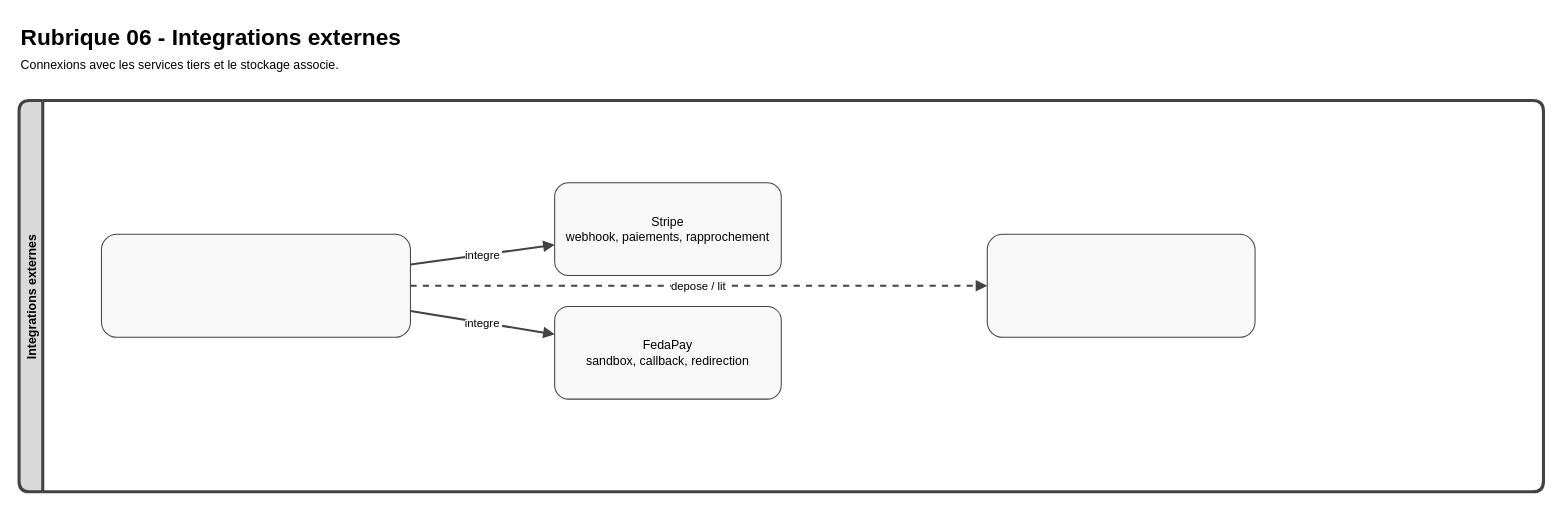
This 1563x511 diagram has some shape labels left out. The shapes that lost their labels are listed below. From the top down, each one's centre as x and y in pixels, then its label:
(x=255, y=285): Services de paiement internes refs: StripeTreasuryService, FedaPaySandboxService
(x=1120, y=285): Stockage de fichiers avatars, logos, pieces jointes
